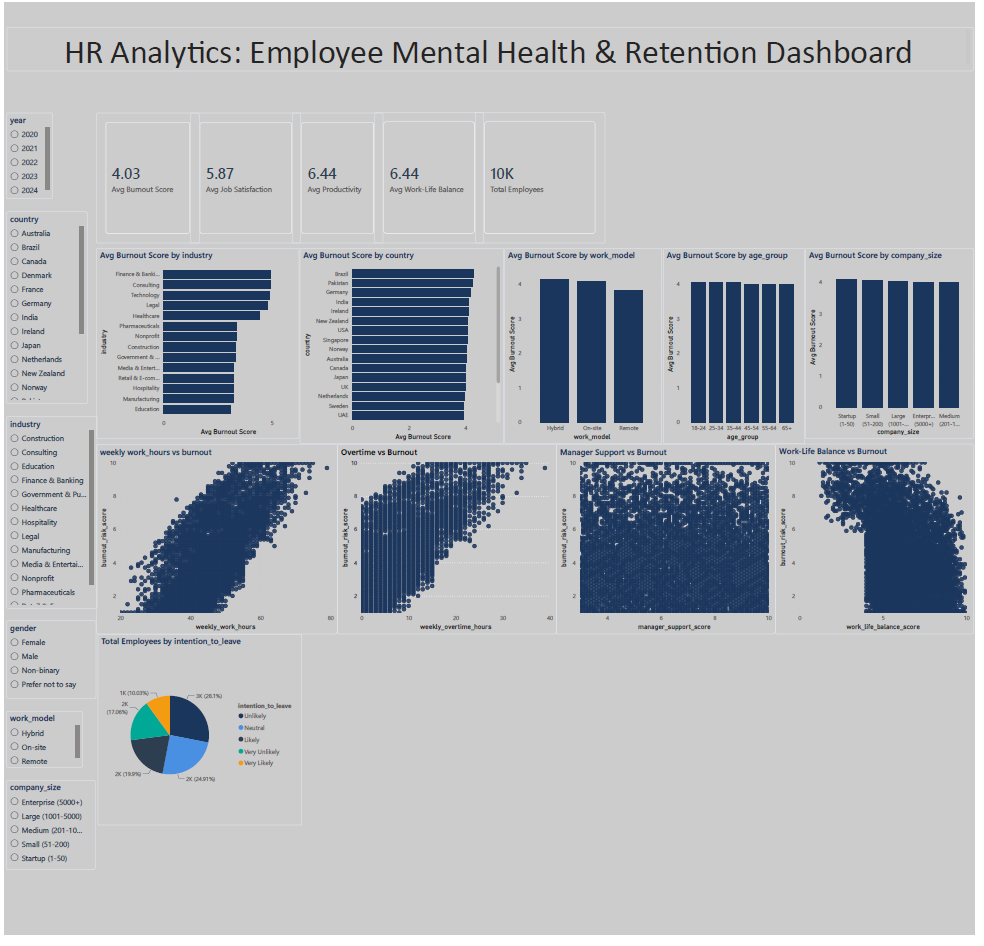

The dashboard page shown, as its layout file describes it:
{"tool":"powerbi","page":{"name":"Page 1","canvas":[2080,1999],"ordinal":0},"visuals":[{"type":"cardVisual","fields":{"Data":["employee_survey.Avg Burnout Score"]},"box":[196.9,237,221.1,279.7],"z":0},{"type":"cardVisual","fields":{"Data":["employee_survey.Avg Job Satisfaction"]},"box":[398.7,236.8,237.5,280],"z":1000},{"type":"cardVisual","fields":{"Data":["employee_survey.Avg Productivity"]},"box":[616.9,236.8,195,280],"z":2000},{"type":"cardVisual","fields":{"Data":["employee_survey.Avg Work-Life Balance"]},"box":[792.6,236.3,235.7,281],"z":3000},{"type":"cardVisual","fields":{"Data":["employee_survey.Total Employees"]},"box":[1009,236.3,278.6,281],"z":4000},{"type":"clusteredBarChart","fields":{"Category":["employee_survey.industry"],"Y":["employee_survey.Avg Burnout Score"]},"box":[196.9,526.5,434.8,409.2],"z":5000},{"type":"clusteredBarChart","fields":{"Category":["employee_survey.country"],"Y":["employee_survey.Avg Burnout Score"]},"box":[633.1,526.5,437.6,420.6],"z":6000},{"type":"clusteredColumnChart","fields":{"Category":["employee_survey.work_model"],"Y":["employee_survey.Avg Burnout Score"]},"box":[1072.1,526.5,338.2,420.6],"z":7000},{"type":"clusteredColumnChart","fields":{"Category":["employee_survey.age_group"],"Y":["employee_survey.Avg Burnout Score"]},"box":[1411.7,526.5,304.1,420.6],"z":8000},{"type":"clusteredColumnChart","fields":{"Category":["employee_survey.company_size"],"Y":["employee_survey.Avg Burnout Score"]},"box":[1717.2,526.5,360.9,409.2],"z":9000},{"type":"scatterChart","title":"weekly work_hours vs burnout","fields":{"X":["employee_survey.weekly_work_hours"],"Y":["employee_survey.burnout_risk_score"]},"box":[196.9,947.5,517.6,407.2],"z":10000},{"type":"scatterChart","title":"Overtime vs Burnout","fields":{"X":["employee_survey.weekly_overtime_hours"],"Y":["employee_survey.burnout_risk_score"]},"box":[714.3,947.5,469.3,407.2],"z":11000},{"type":"scatterChart","title":"Manager Support vs Burnout","fields":{"X":["employee_survey.manager_support_score"],"Y":["employee_survey.burnout_risk_score"]},"box":[1183.4,947.5,469.3,407.2],"z":12000},{"type":"scatterChart","title":"Work-Life Balance vs Burnout","fields":{"X":["employee_survey.work_life_balance_score"],"Y":["employee_survey.burnout_risk_score"]},"box":[1652.5,947.4,425,407.5],"z":13000},{"type":"pieChart","fields":{"Category":["employee_survey.intention_to_leave"],"Y":["employee_survey.Total Employees"]},"box":[200,1355,437.5,410],"z":14000},{"type":"listSlicer","fields":{"Values":["employee_survey.year"]},"box":[4.2,236.7,100,185.7],"z":15000},{"type":"listSlicer","fields":{"Values":["employee_survey.country"]},"box":[4.2,449,173.8,411.9],"z":16000},{"type":"listSlicer","fields":{"Values":["employee_survey.industry"]},"box":[4.2,887.6,195.2,411.9],"z":17000},{"type":"listSlicer","fields":{"Values":["employee_survey.gender"]},"box":[4.2,1326.2,192.9,166.7],"z":18000},{"type":"listSlicer","fields":{"Values":["employee_survey.work_model"]},"box":[4.2,1519.5,164.3,121.4],"z":19000},{"type":"listSlicer","fields":{"Values":["employee_survey.company_size"]},"box":[4.2,1667.6,190.5,192.9],"z":20000},{"type":"textbox","box":[5,52.5,2072.5,95],"z":21000}]}

Visuals, with their boxes in screenshot pixels (x1, y1, x2, y2), scaled from the page's 2080x1999 canvas onto the 984x946 screenshot:
cardVisual - employee_survey.Avg Burnout Score: bbox=(93, 112, 198, 245)
cardVisual - employee_survey.Avg Job Satisfaction: bbox=(189, 112, 301, 245)
cardVisual - employee_survey.Avg Productivity: bbox=(292, 112, 384, 245)
cardVisual - employee_survey.Avg Work-Life Balance: bbox=(375, 112, 486, 245)
cardVisual - employee_survey.Total Employees: bbox=(477, 112, 609, 245)
clusteredBarChart - employee_survey.industry x employee_survey.Avg Burnout Score: bbox=(93, 249, 299, 443)
clusteredBarChart - employee_survey.country x employee_survey.Avg Burnout Score: bbox=(300, 249, 507, 448)
clusteredColumnChart - employee_survey.work_model x employee_survey.Avg Burnout Score: bbox=(507, 249, 667, 448)
clusteredColumnChart - employee_survey.age_group x employee_survey.Avg Burnout Score: bbox=(668, 249, 812, 448)
clusteredColumnChart - employee_survey.company_size x employee_survey.Avg Burnout Score: bbox=(812, 249, 983, 443)
"weekly work_hours vs burnout" scatterChart: bbox=(93, 448, 338, 641)
"Overtime vs Burnout" scatterChart: bbox=(338, 448, 560, 641)
"Manager Support vs Burnout" scatterChart: bbox=(560, 448, 782, 641)
"Work-Life Balance vs Burnout" scatterChart: bbox=(782, 448, 983, 641)
pieChart - employee_survey.intention_to_leave x employee_survey.Total Employees: bbox=(95, 641, 302, 835)
listSlicer - employee_survey.year: bbox=(2, 112, 49, 200)
listSlicer - employee_survey.country: bbox=(2, 212, 84, 407)
listSlicer - employee_survey.industry: bbox=(2, 420, 94, 615)
listSlicer - employee_survey.gender: bbox=(2, 628, 93, 706)
listSlicer - employee_survey.work_model: bbox=(2, 719, 80, 777)
listSlicer - employee_survey.company_size: bbox=(2, 789, 92, 880)
textbox: bbox=(2, 25, 983, 70)
